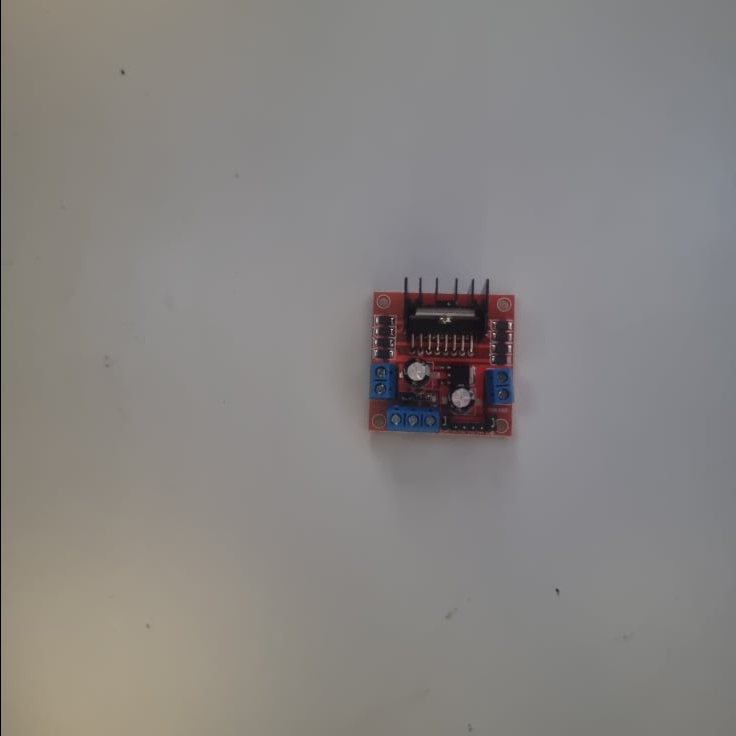MOTOR: (362, 278, 516, 437)
